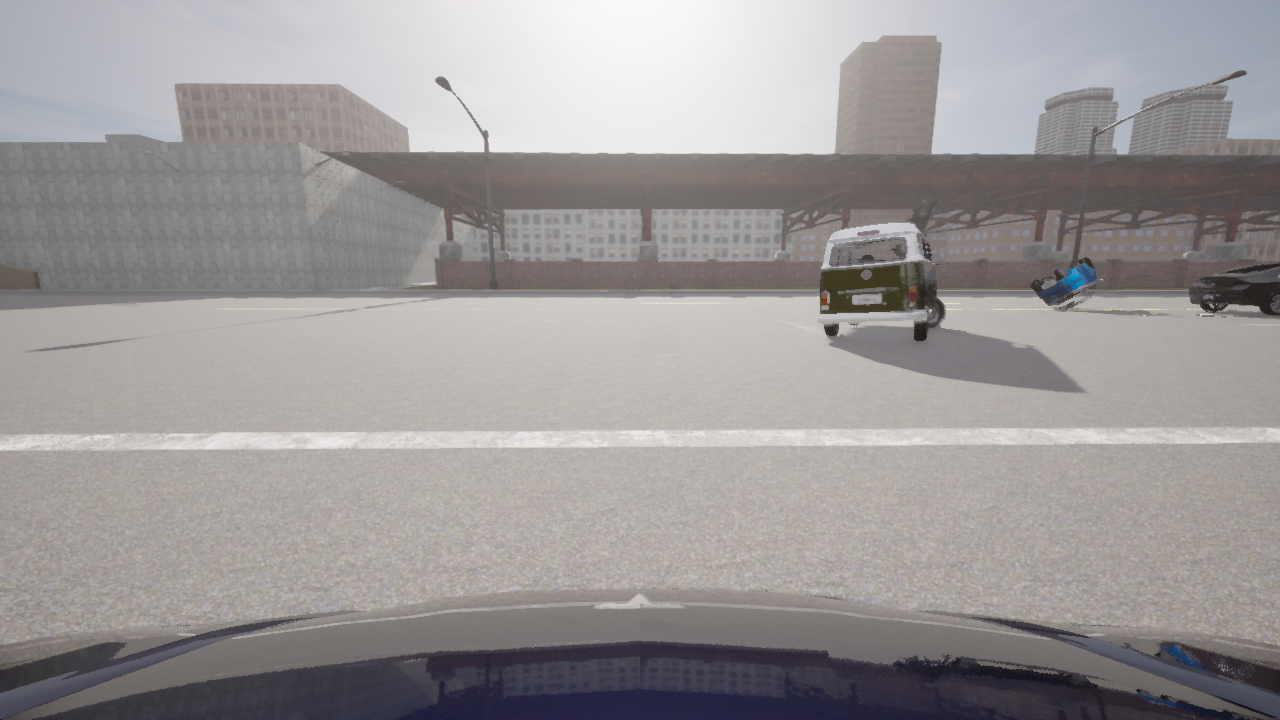cyclist: (0, 588, 1279, 719), (816, 222, 945, 341), (1190, 263, 1279, 315), (1030, 256, 1103, 308), (904, 196, 938, 231)
